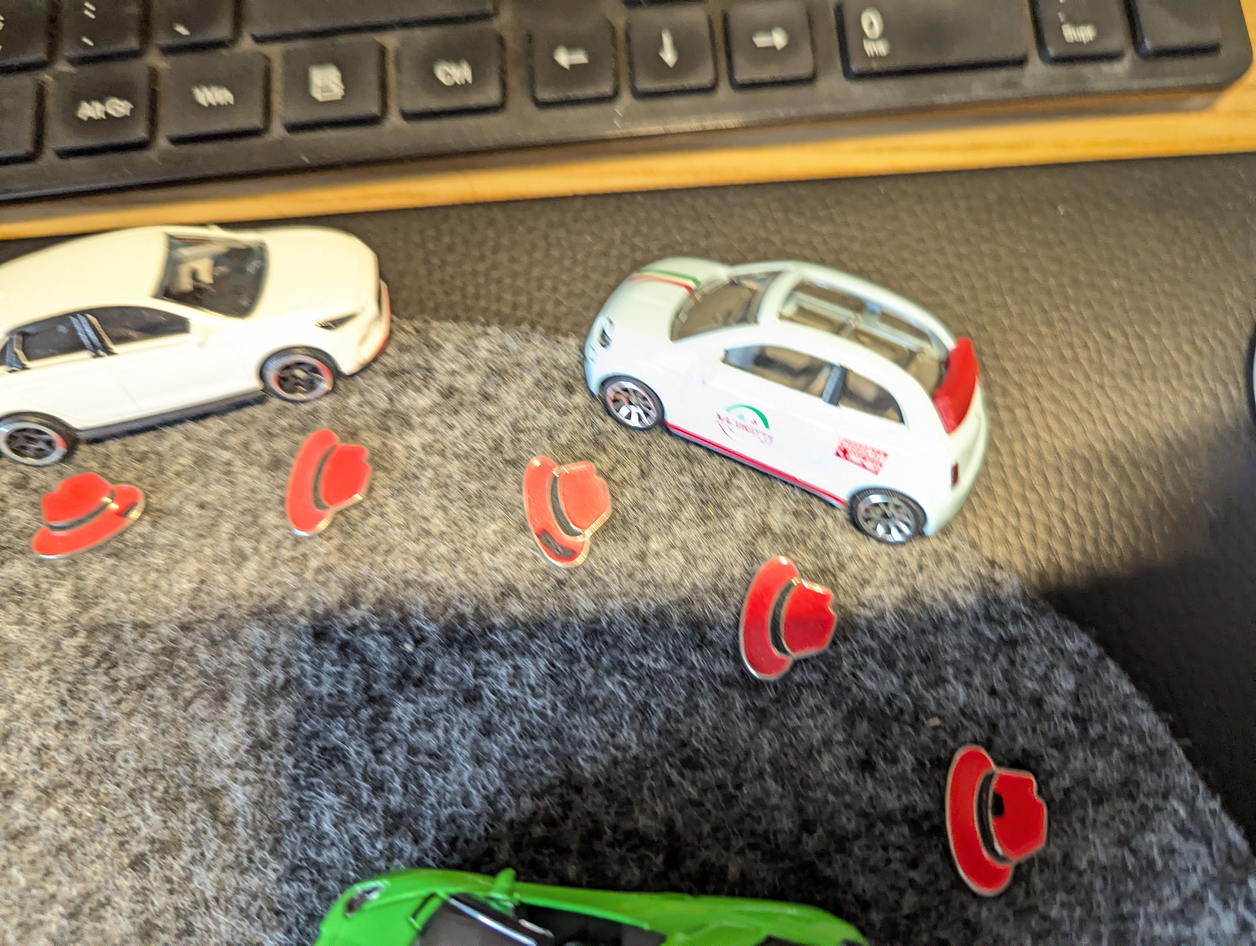Car: (564, 227, 1038, 575), (0, 181, 437, 494)
Red-Hat: (934, 729, 1066, 904), (727, 527, 853, 709), (13, 463, 166, 572), (513, 439, 620, 586), (272, 412, 377, 559)
Scratch: (520, 515, 590, 572), (103, 495, 157, 529), (981, 780, 1018, 828)
